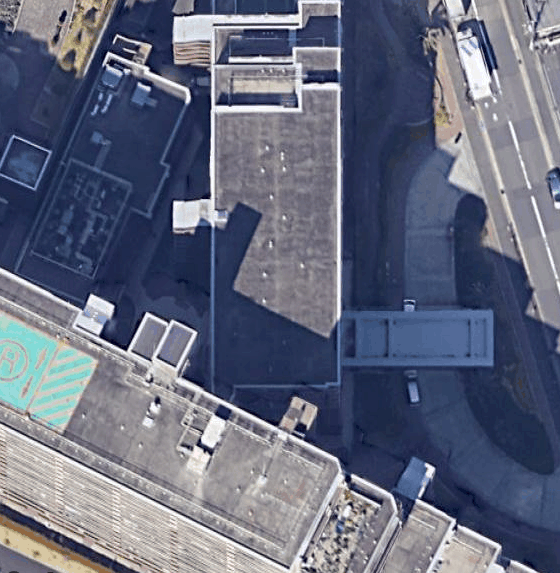facility: (100, 387, 465, 567), (200, 1, 342, 382)
heliport_h: (1, 300, 117, 444)
